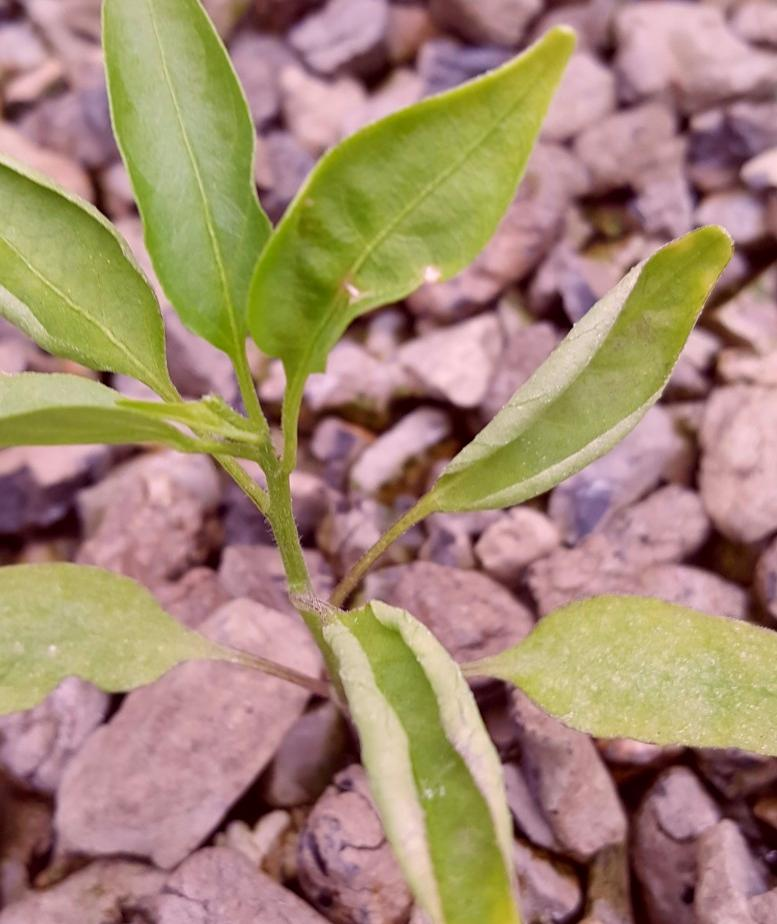Tomato leaf: (244, 6, 602, 374), (404, 215, 737, 527), (76, 0, 311, 401), (478, 585, 777, 778), (0, 555, 221, 714)
